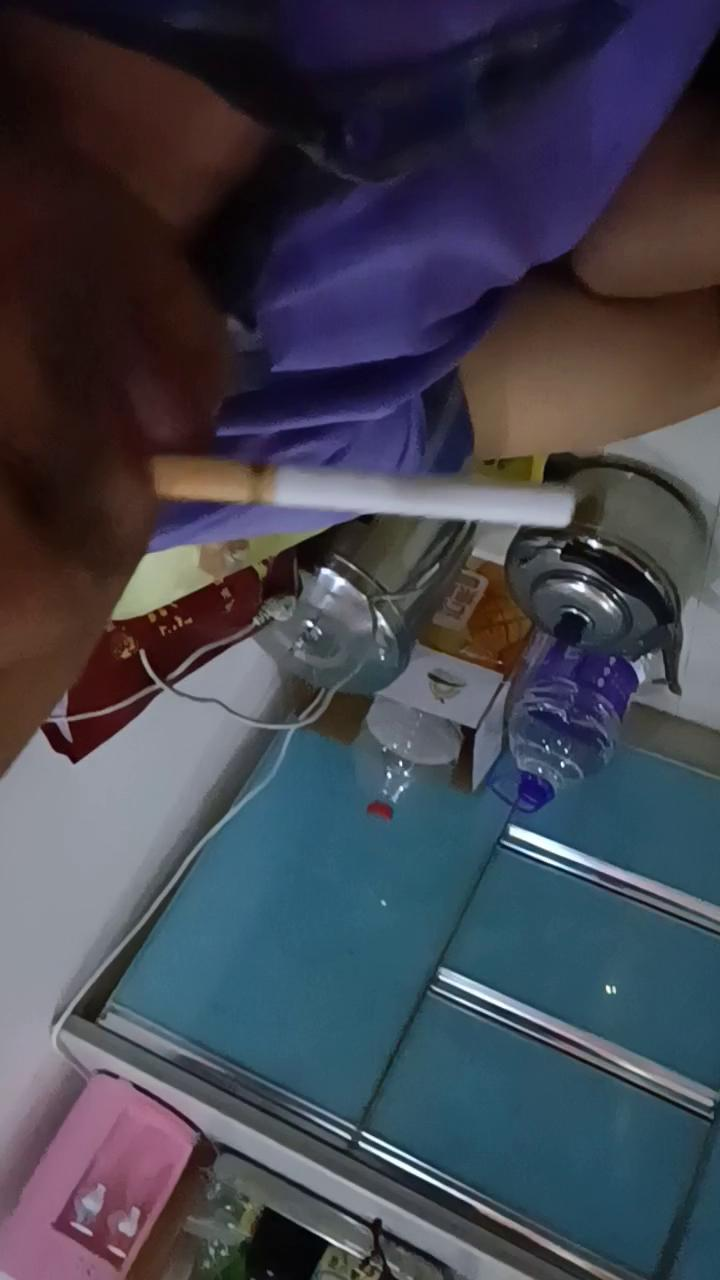smoke: (151, 450, 580, 534)
